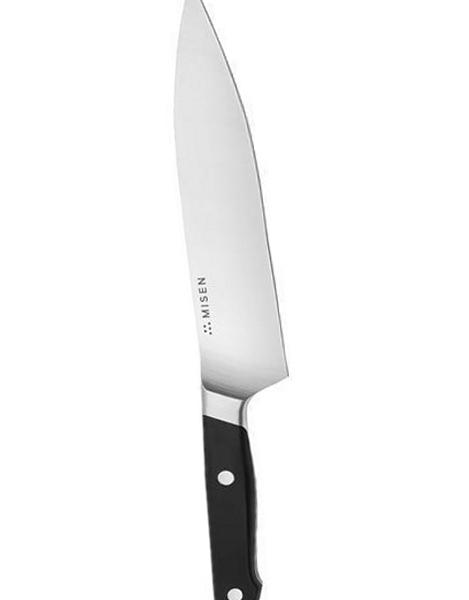knife: (172, 1, 289, 600)
